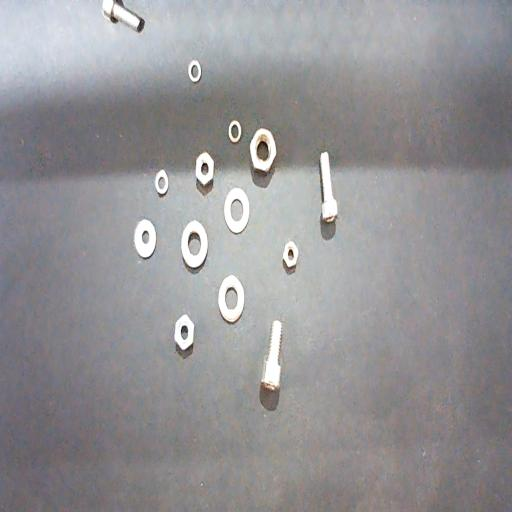nut: (250, 127, 276, 173), (174, 314, 194, 351), (196, 152, 214, 188), (283, 242, 299, 268)
screw: (261, 320, 283, 392), (102, 0, 145, 33), (319, 151, 337, 223)
washer: (181, 220, 208, 268), (218, 275, 245, 323), (224, 186, 250, 234), (134, 219, 157, 258), (154, 169, 169, 195), (228, 120, 242, 143), (188, 60, 202, 82)
